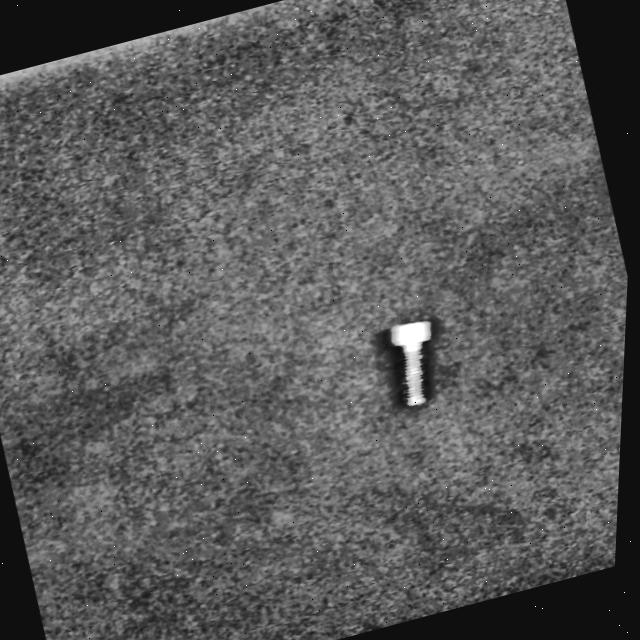Socket head cap screw: (362, 303, 465, 423)
